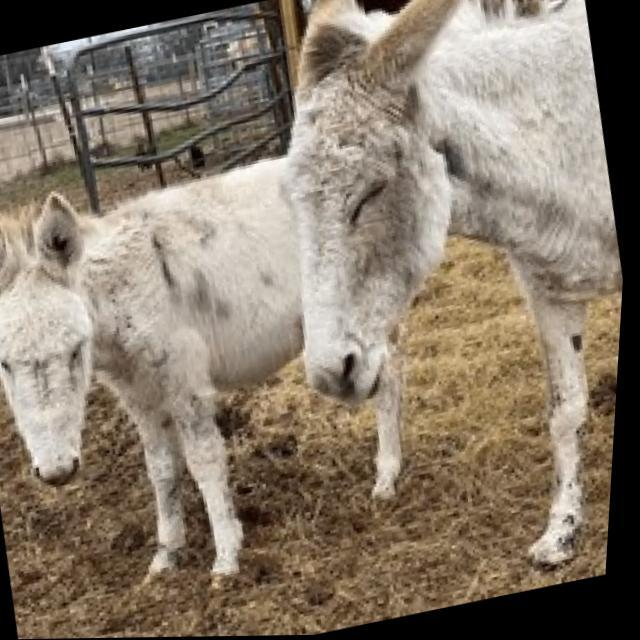Donkey: (0, 83, 447, 622), (231, 0, 640, 587)
